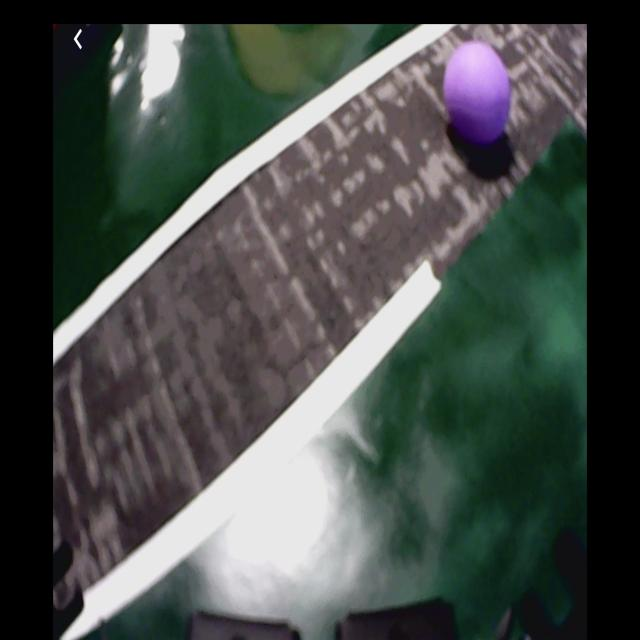ball: (438, 41, 512, 150)
